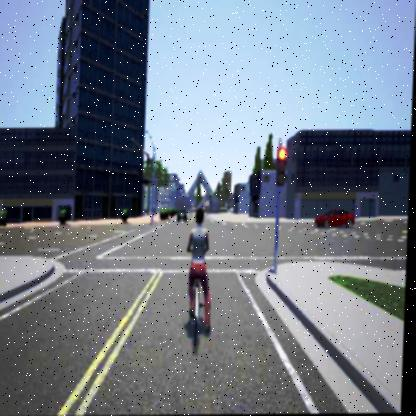bike: (183, 207, 219, 346)
vehicle: (316, 208, 356, 228), (176, 203, 191, 224)
